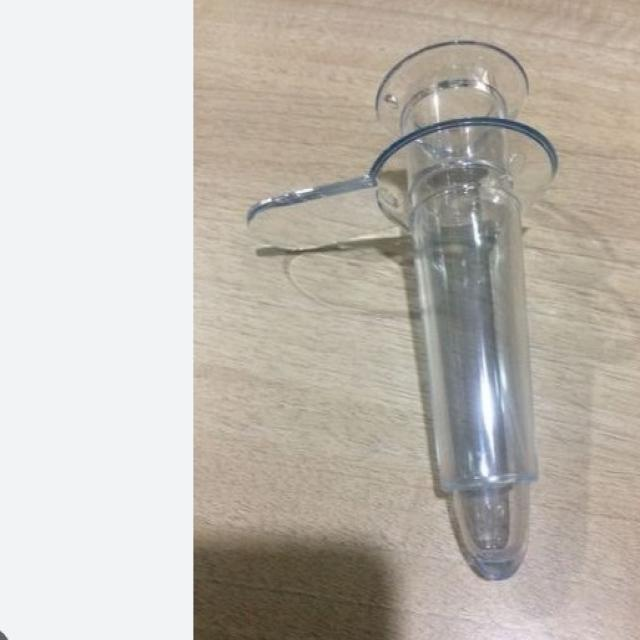Protoscope: (246, 32, 572, 584)
